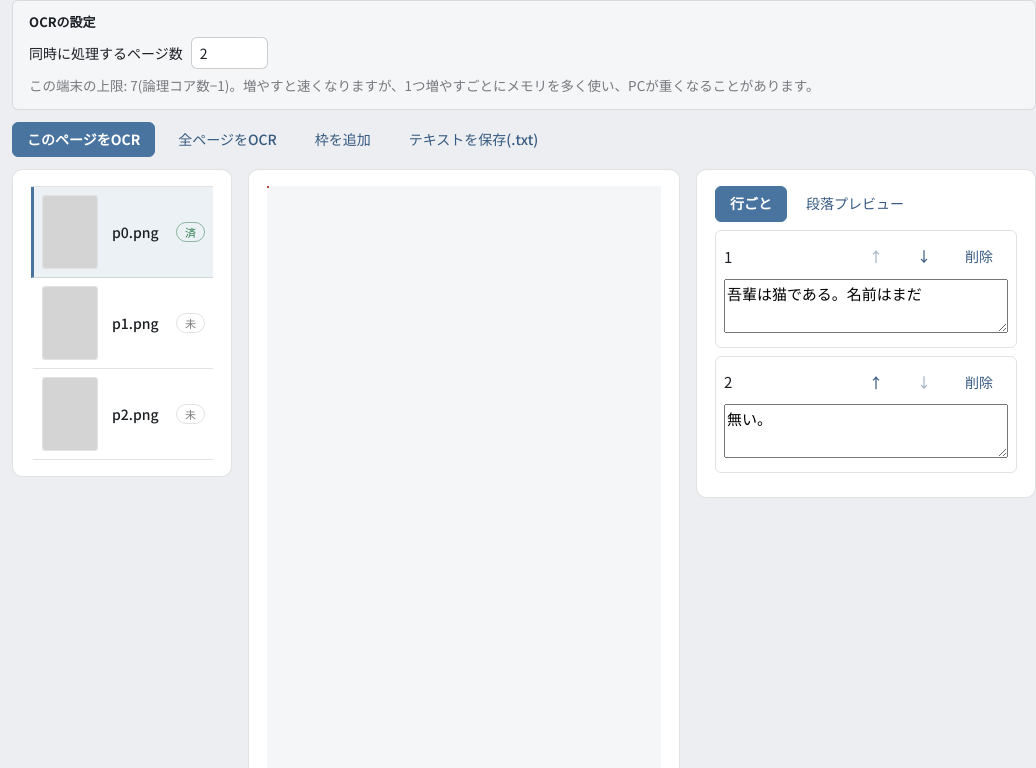
OcrReview › 「段落プレビュー」に切り替えると段落結合した文字列を表示し、「行ごと」に戻せる
Expected: the text box showing "吾輩は猫である。名前はまだ" is shown, [724, 279, 1008, 333]
Expected: the button with test id "ocr-box-l2" is shown, [267, 186, 269, 188]
Click the button "段落プレビュー".
click(855, 204)  # box [791, 186, 919, 222]
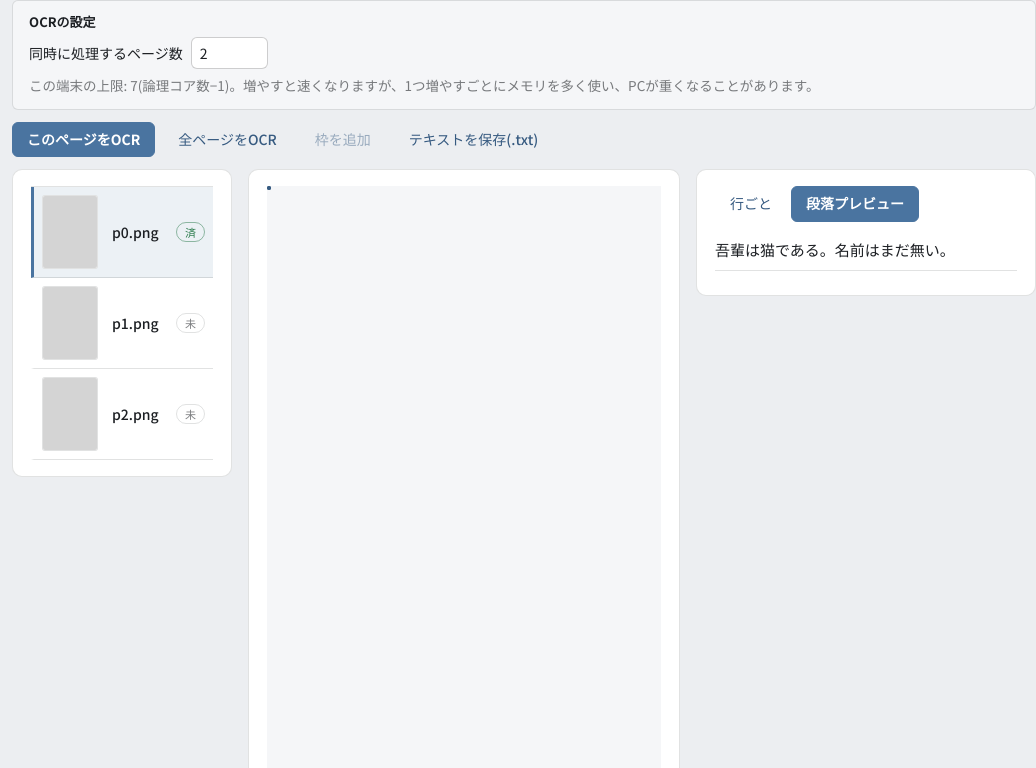
Expected: the text "吾輩は猫である。名前はまだ無い。" is shown, [715, 230, 1017, 271]
Expected: the button named "段落1の枠" is shown, [267, 186, 271, 190]
Click the button "行ごと".
click(751, 204)  # box [715, 186, 787, 222]
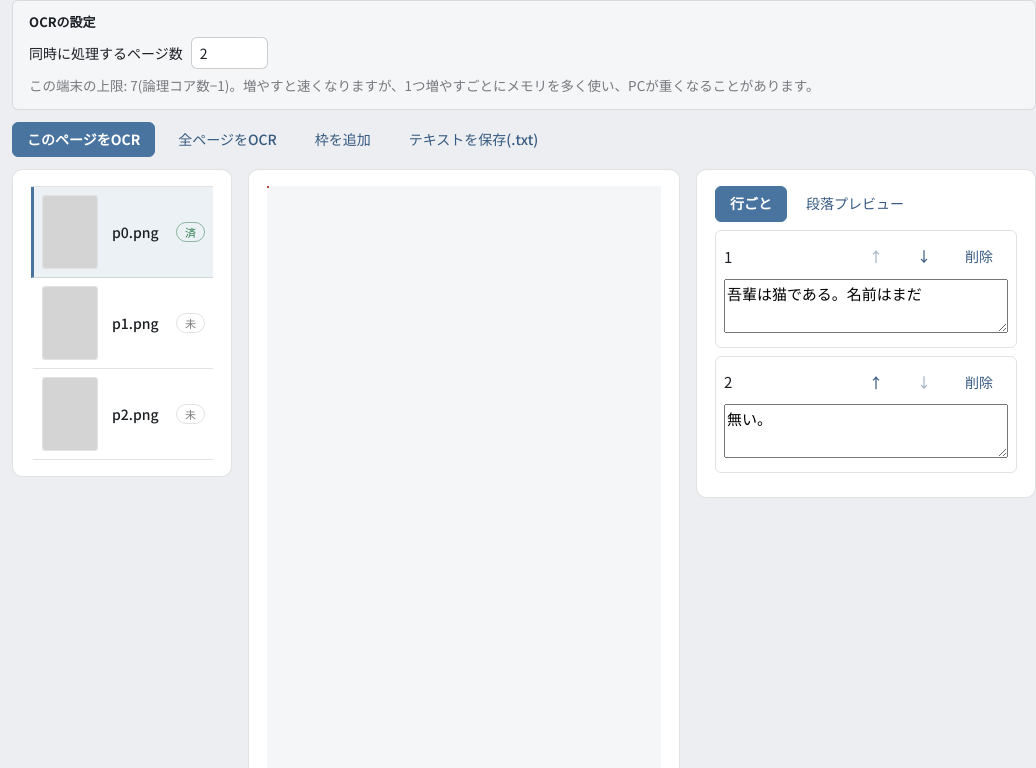
Expected: the button with test id "ocr-box-l1" is shown, [267, 186, 269, 188]
Expected: the text box showing "吾輩は猫である。名前はまだ" is shown, [724, 279, 1008, 333]
